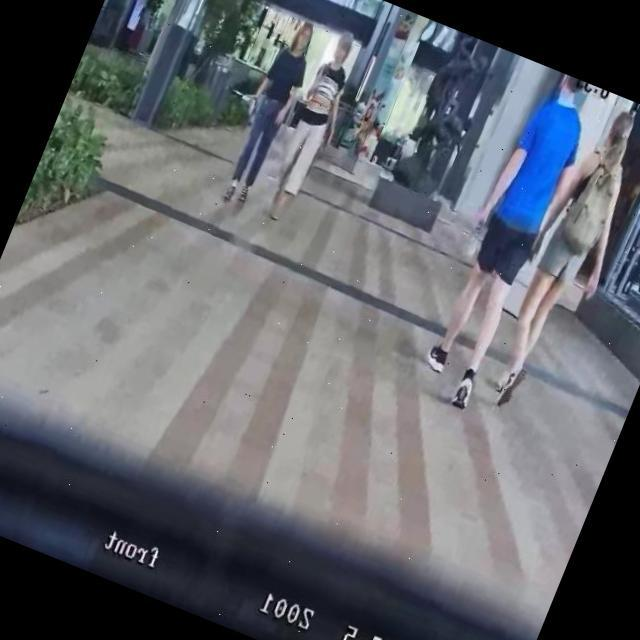person: (406, 63, 604, 417), (470, 96, 640, 425), (256, 23, 372, 231), (213, 12, 325, 211), (618, 226, 640, 297)
